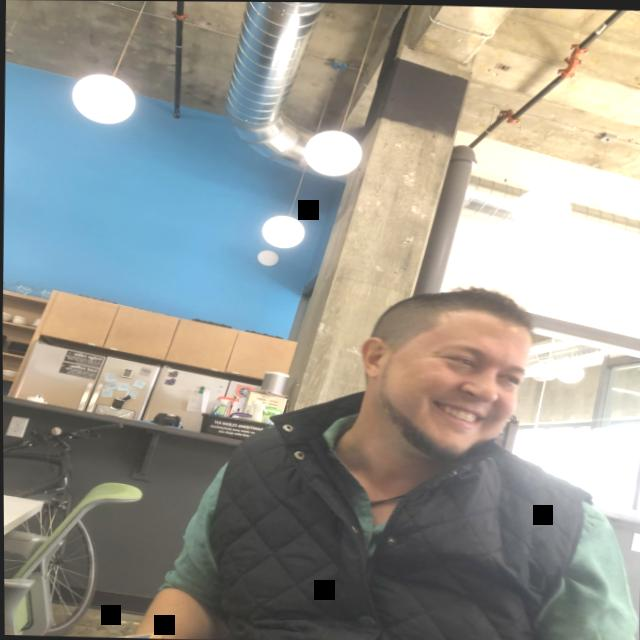NO-Mask: (373, 324, 532, 464)
